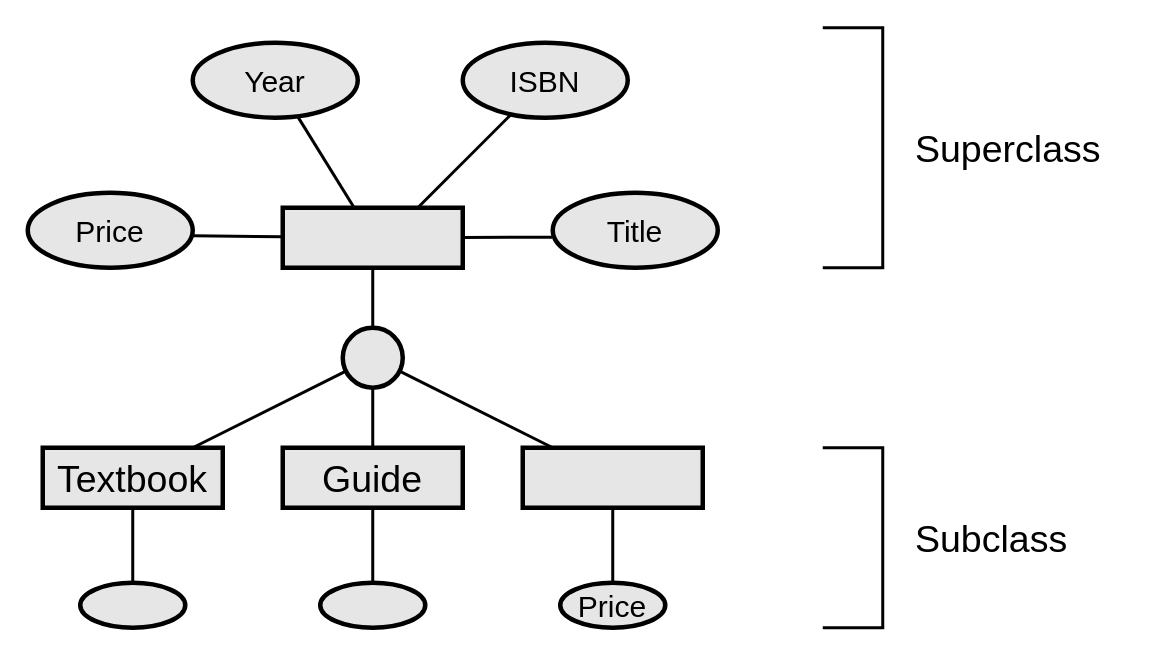
The diagram is 1149 pixels wide and 656 high, and some of its shapes have lost their labels. The shapes that lost their labels are listed below. From the top down, each one's box as (x1, y1, x2, y2) in pixels, then its label:
(280, 205, 464, 269): Books
(520, 445, 704, 509): Comic
(77, 580, 187, 629): Name
(317, 580, 427, 629): Type
